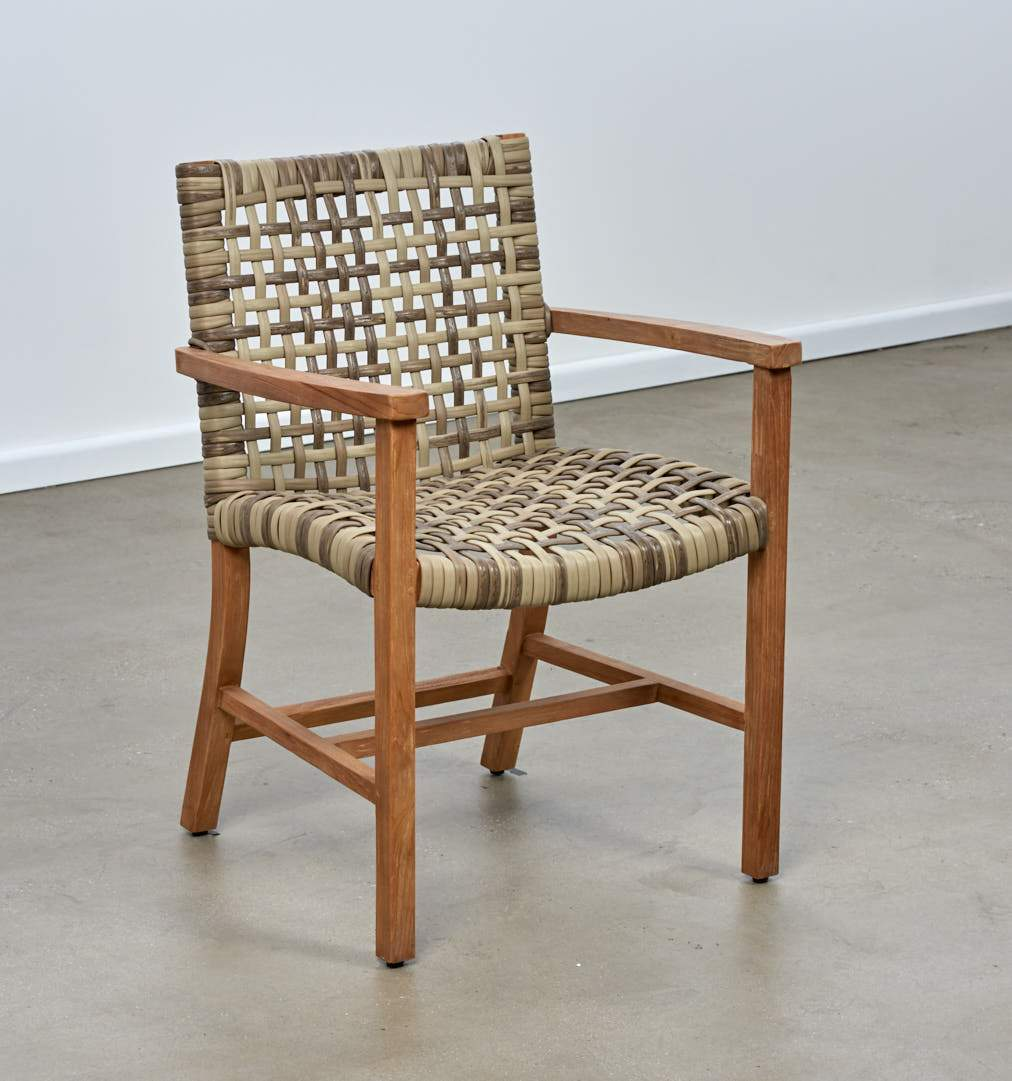chair: (127, 117, 830, 988)
